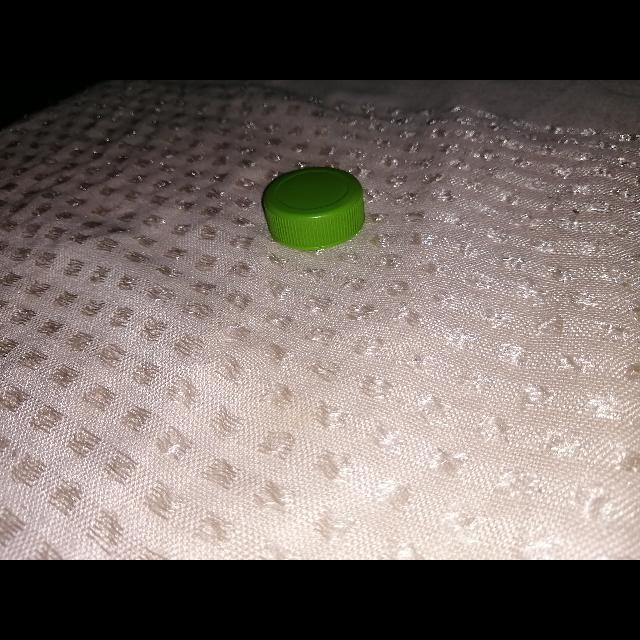plastic_bottle_cap: (262, 166, 366, 250)
